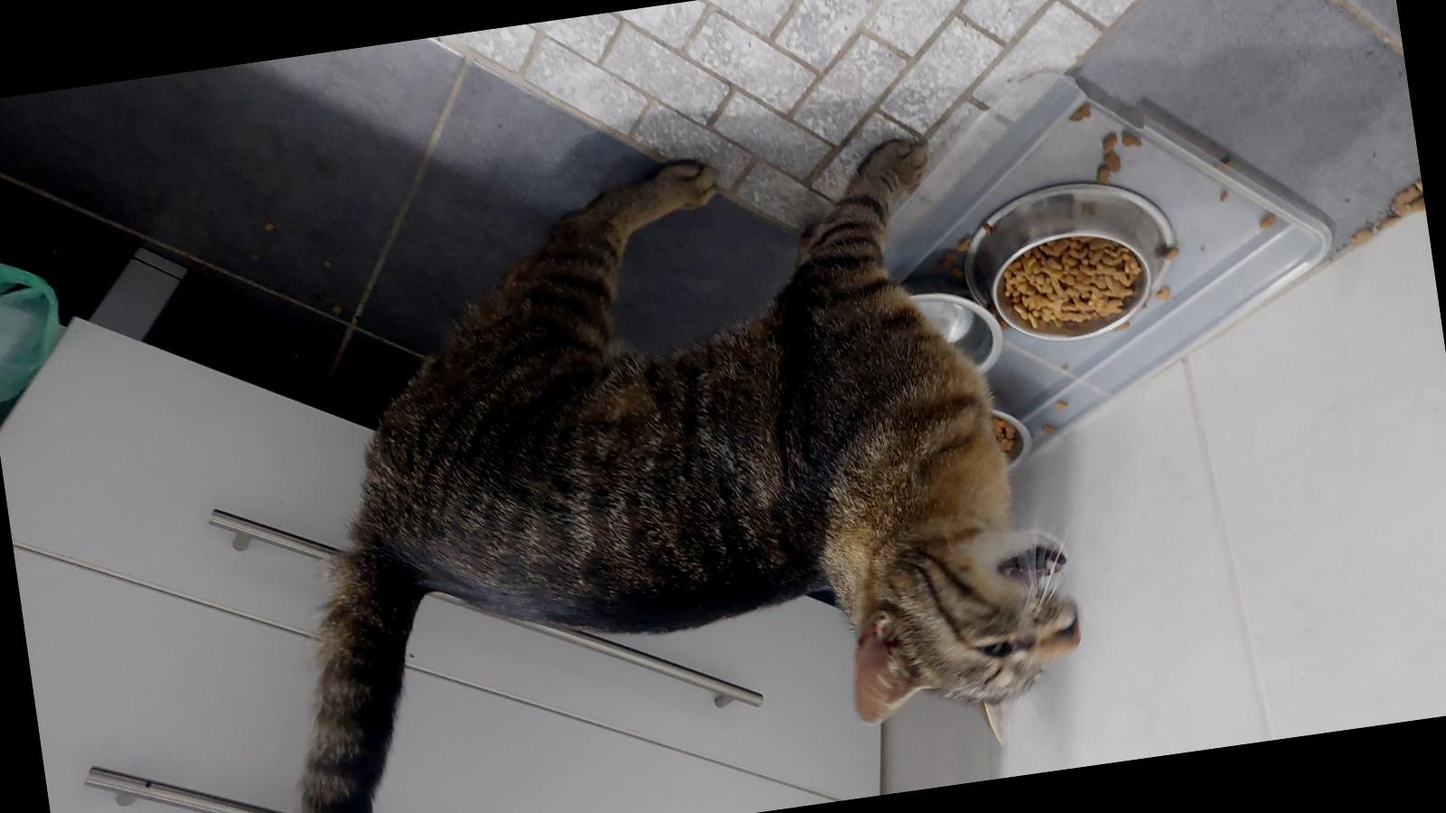macka: (196, 115, 1101, 813)
